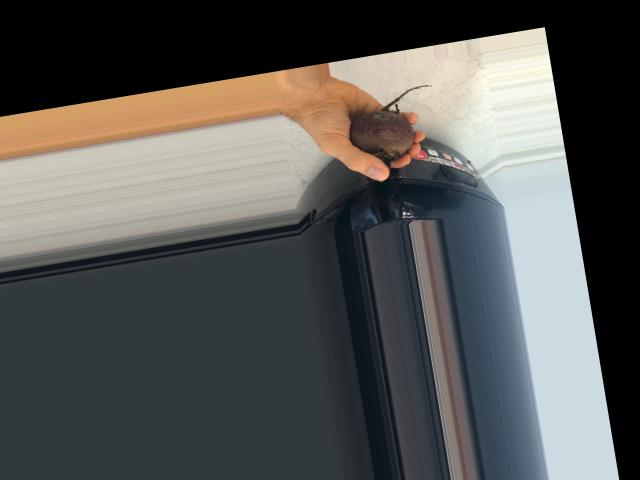beet: (344, 83, 444, 173)
